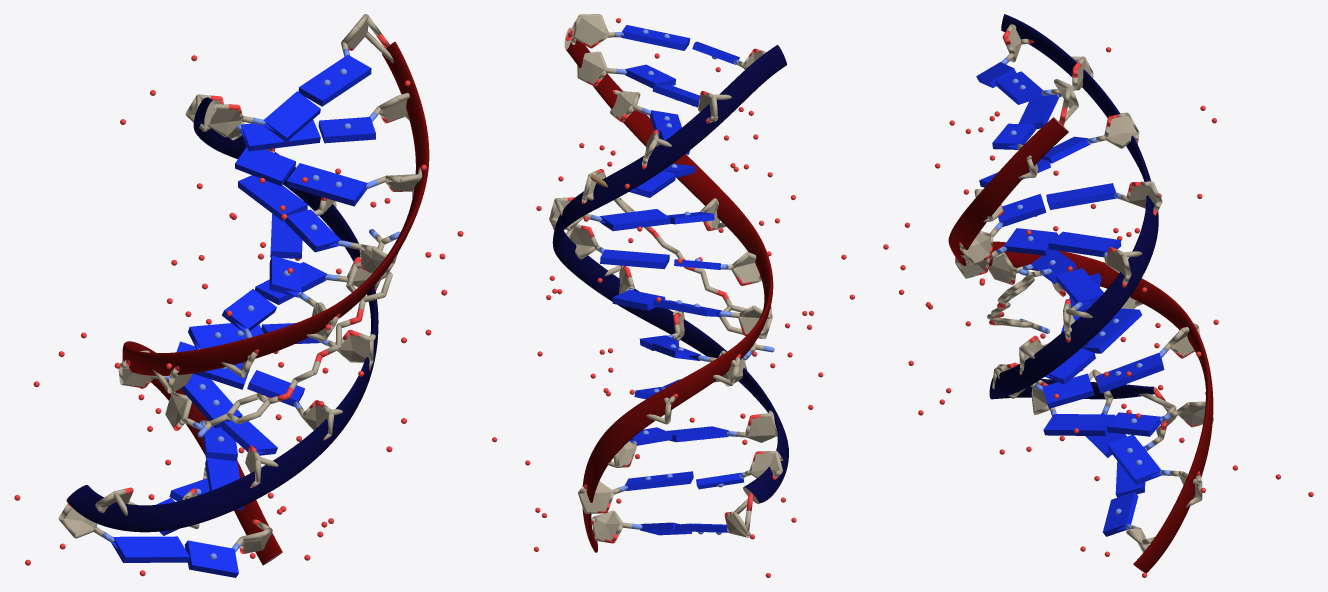
The picture shows the model from 3 angles, left to right: view 1: azimuth 30°, elevation 25°; view 2: azimuth 150°, elevation 25°; view 3: azimuth 270°, elevation 25°; orthographic projection. The views are drawn at different scales.
Visible parts, largest first — view 1: subnode_651, subnode_652.001, subnode_362; view 2: subnode_652.001, subnode_362, subnode_651; view 3: subnode_651, subnode_652.001, subnode_362.
Part boxes in pixels (left/top/right/bottom): subnode_651: left=111, top=55, right=375, bottom=577; subnode_652.001: left=66, top=41, right=429, bottom=565; subnode_362: left=14, top=14, right=463, bottom=576; subnode_652.001: left=552, top=40, right=788, bottom=552; subnode_362: left=492, top=14, right=854, bottom=577; subnode_651: left=599, top=25, right=744, bottom=535; subnode_651: left=976, top=62, right=1164, bottom=536; subnode_652.001: left=948, top=14, right=1213, bottom=573; subnode_362: left=883, top=24, right=1313, bottom=577.
Size of the model in its own units: 2846 by 4187 by 3168.
